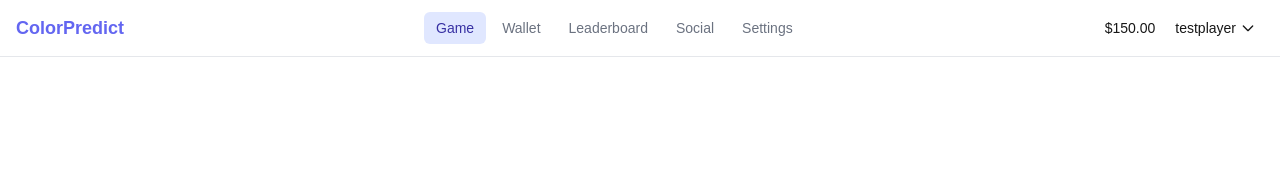
Test: NavBar › opens account dropdown on click
Click the button with aria-label "Account menu" at (1216, 28), box top-left (1167, 12), bottom-right (1264, 44)
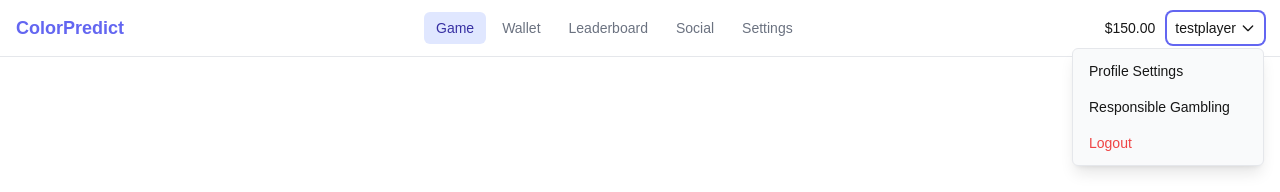
Check: the menu item "Profile Settings" is shown, box top-left (1089, 63), bottom-right (1183, 79)
Check: the menu item "Responsible Gambling" is shown, box top-left (1089, 99), bottom-right (1230, 115)
Check: the menu item "Logout" is shown, box top-left (1073, 125), bottom-right (1263, 161)
